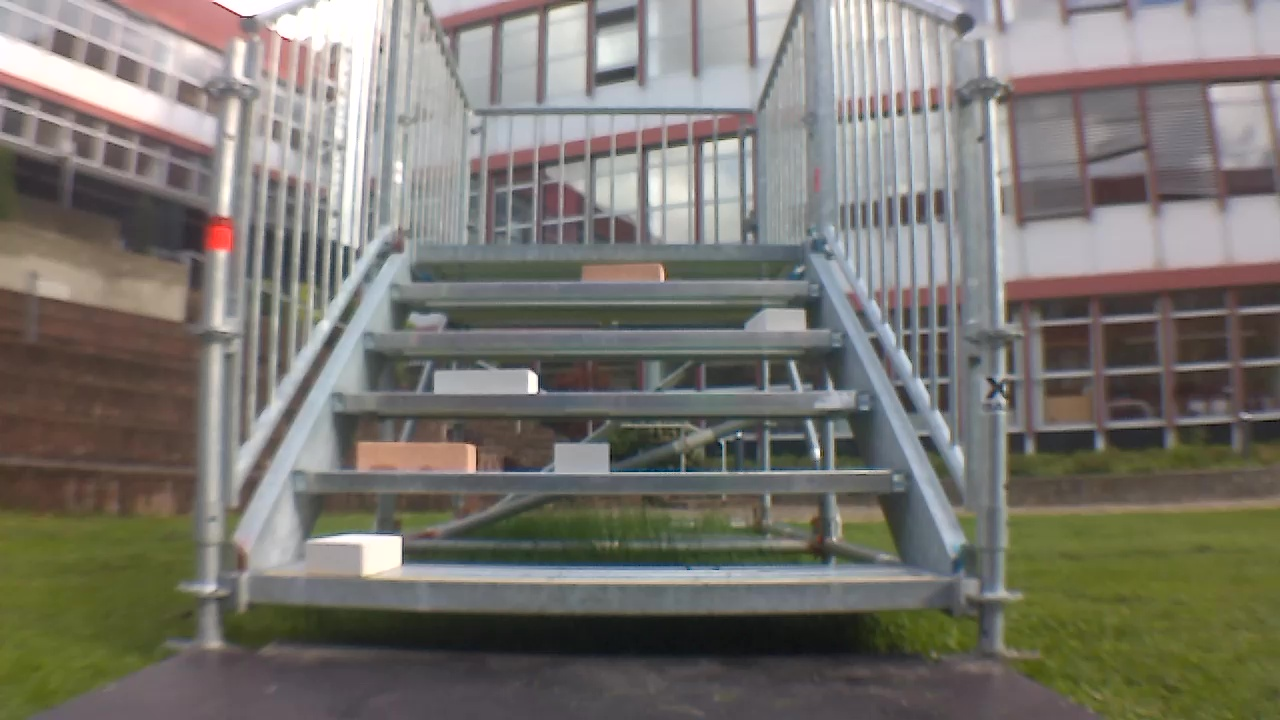brick: (300, 532, 408, 577), (353, 441, 481, 475), (435, 369, 539, 390), (551, 443, 614, 476), (575, 262, 670, 283), (745, 309, 810, 332)
edge: (244, 571, 959, 607), (331, 387, 874, 417), (290, 468, 910, 493), (357, 326, 851, 351), (388, 279, 824, 302), (403, 242, 805, 266)
stairs: (194, 0, 989, 662)
steps: (227, 238, 961, 618)
